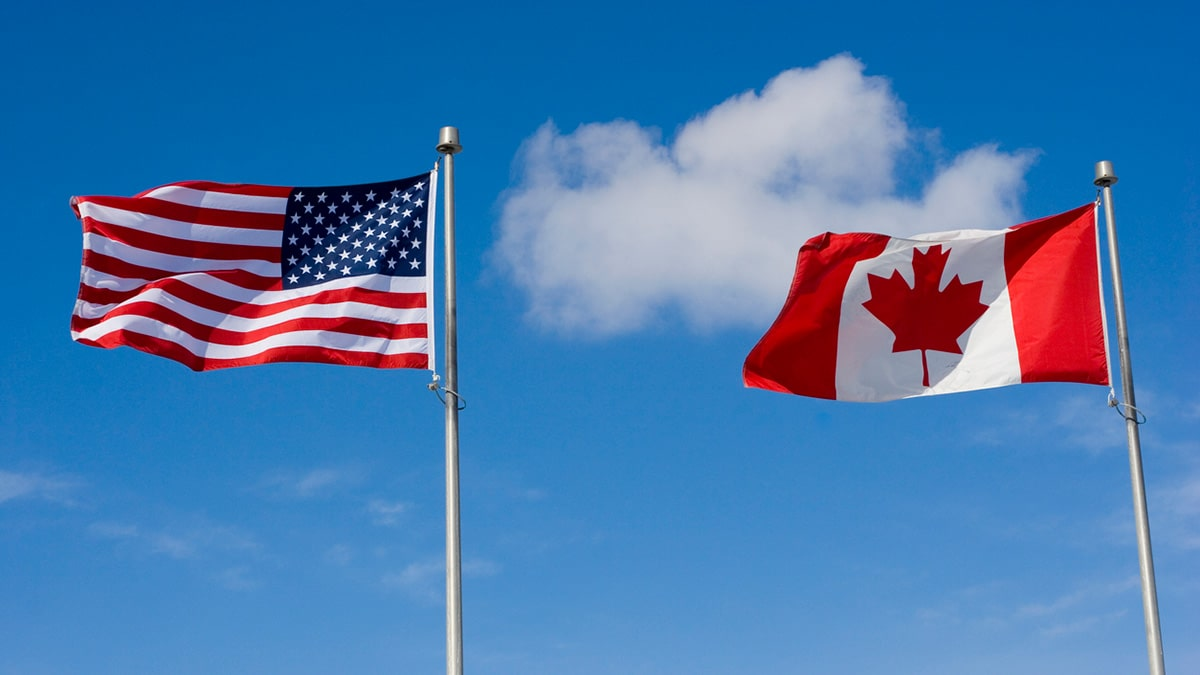America flag: (66, 155, 443, 385)
Canada flag: (737, 194, 1114, 400)
